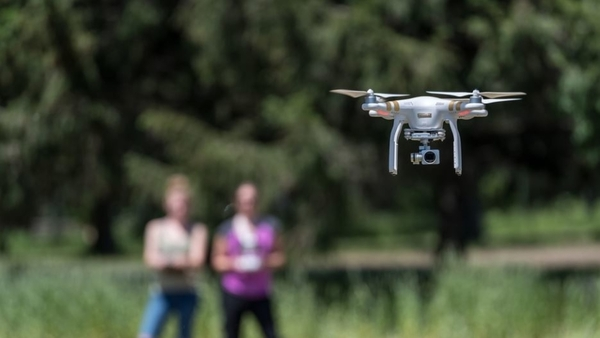drone: (330, 86, 528, 178)
